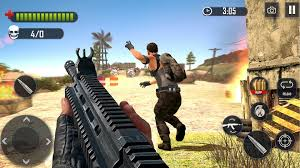gun: (59, 47, 172, 165)
